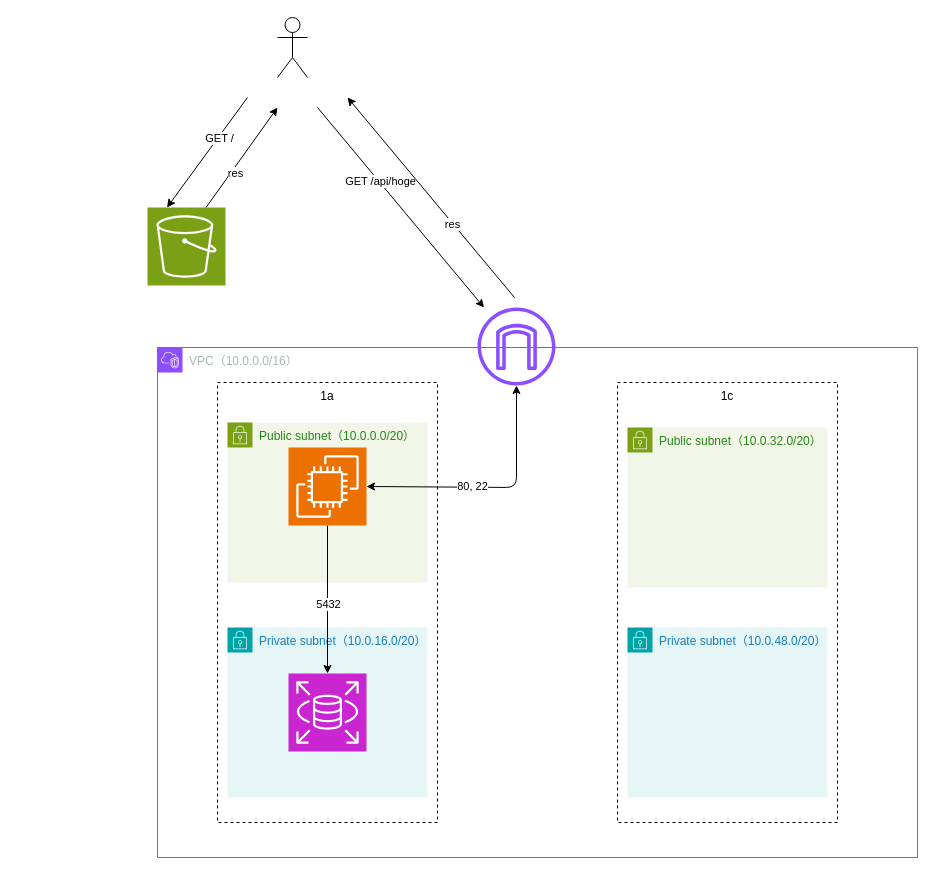
The diagram is 935 pixels wide and 875 high, and some of its shapes have lost their labels. Here are the shapes that lost their labels. From the top down, the centre of each, then its label:
At point 292,47: "client(browser)".
At point 186,246: "s3 http://cha-saji-learn.s3-website-ap-northeast-1.amazonaws.com".
At point 327,486: "api server public:13.231.237.178 private: 10.0.15.151".
At point 327,712: "db server learn-rds.c126eaow2zwn.ap-northeast-1.rds.amazonaws.com".
